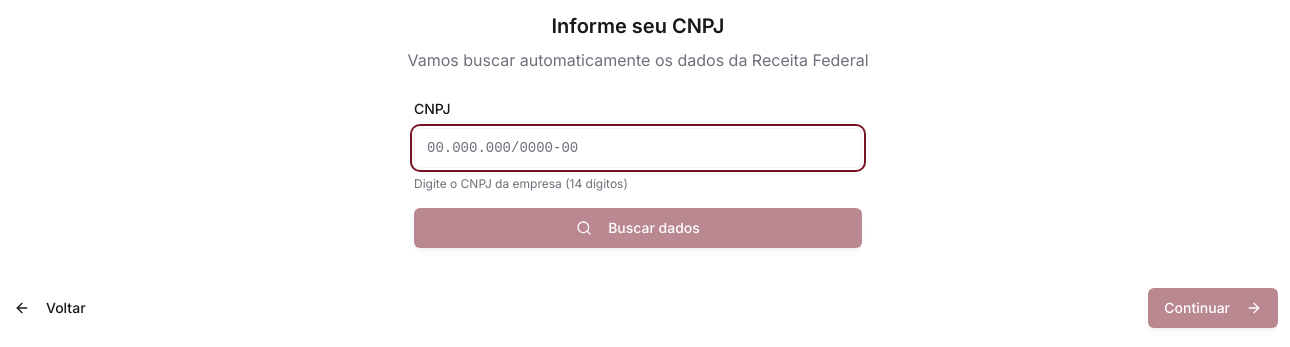
Test: CnpjInput › CNPJ formatting › formats CNPJ as user types
Type "12345678000190" into the field labelled "CNPJ".
click(638, 148); type("12345678000190")  # box [414, 128, 862, 168]
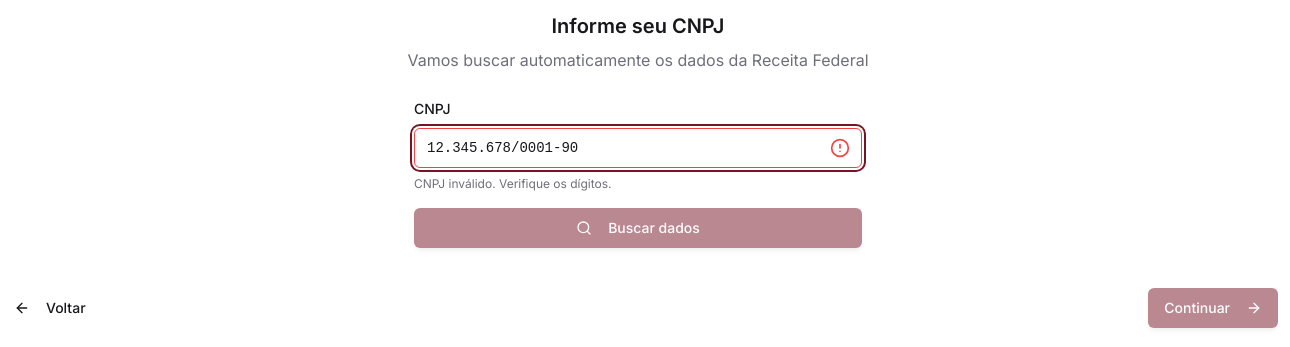
Check: the field labelled "CNPJ" holds "12.345.678/0001-90", box [414, 128, 862, 168]
